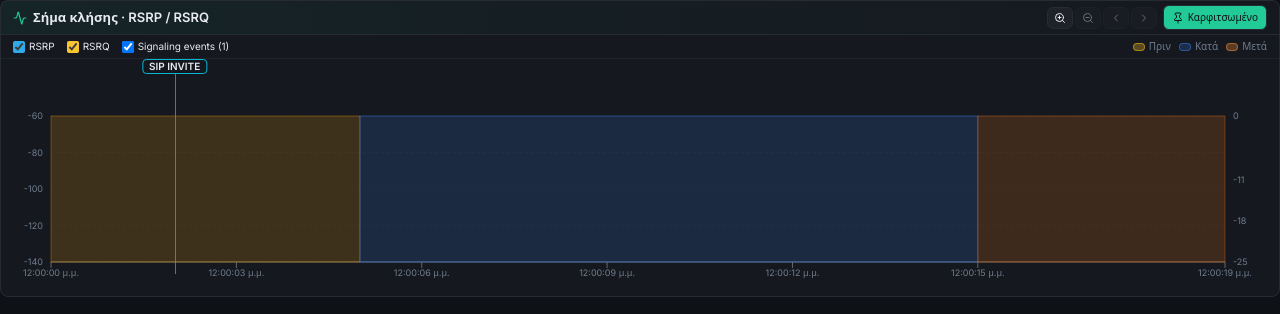
Test: CallSignalChart › hides the event labels when the reader turns them off
Check: the button "SIP INVITE" is shown, box [142,59,207,74]
Step 1. Click the checkbox labelled "Signaling events (1)" → (128, 46), box [122,40,134,52]
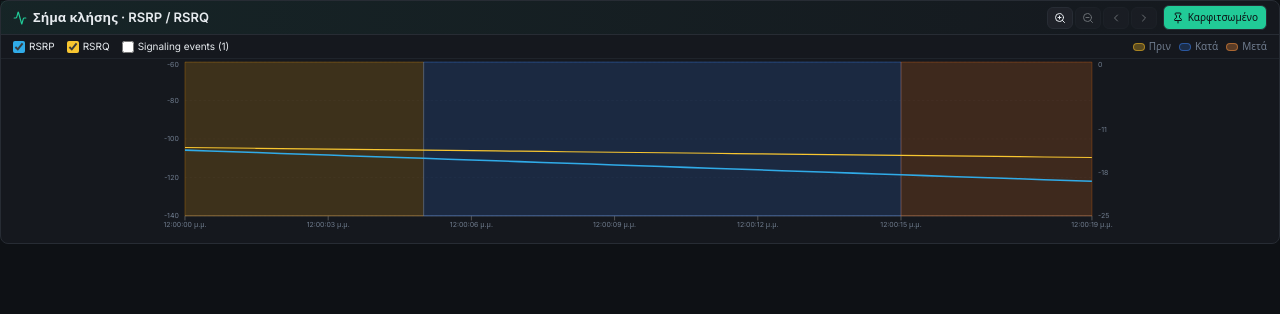
Check: the button "SIP INVITE" is gone
